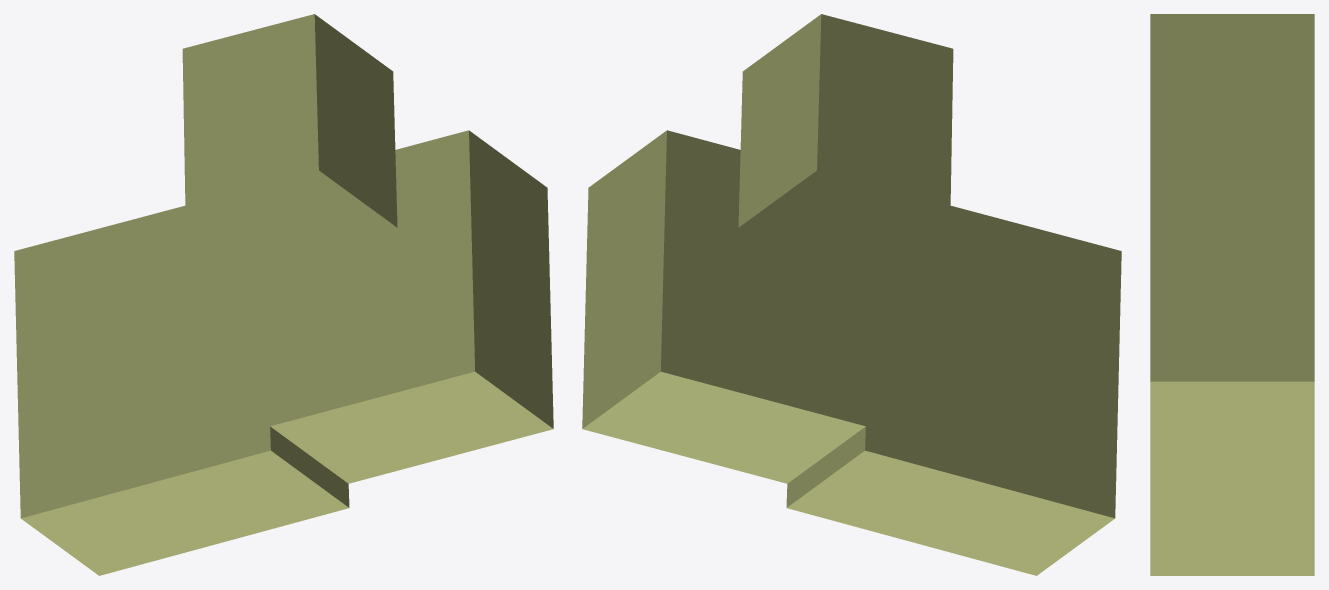
3 views of the same model, side by side, from view 1: azimuth 30°, elevation 25°; view 2: azimuth 150°, elevation 25°; view 3: azimuth 270°, elevation 25° (orthographic). The views are drawn at different scales.
Parts seen in each view (by area): view 1: 0_1_2_0_3_3_3_1_0; view 2: 0_1_2_0_3_3_3_1_0; view 3: 0_1_2_0_3_3_3_1_0.
Part boxes in pixels (x1,y1,x2,y2): 0_1_2_0_3_3_3_1_0: (14,14,553,575); 0_1_2_0_3_3_3_1_0: (582,14,1121,575); 0_1_2_0_3_3_3_1_0: (1150,14,1314,575).
Bounding box in the file's own units: 30.48 × 27.35 × 9.
